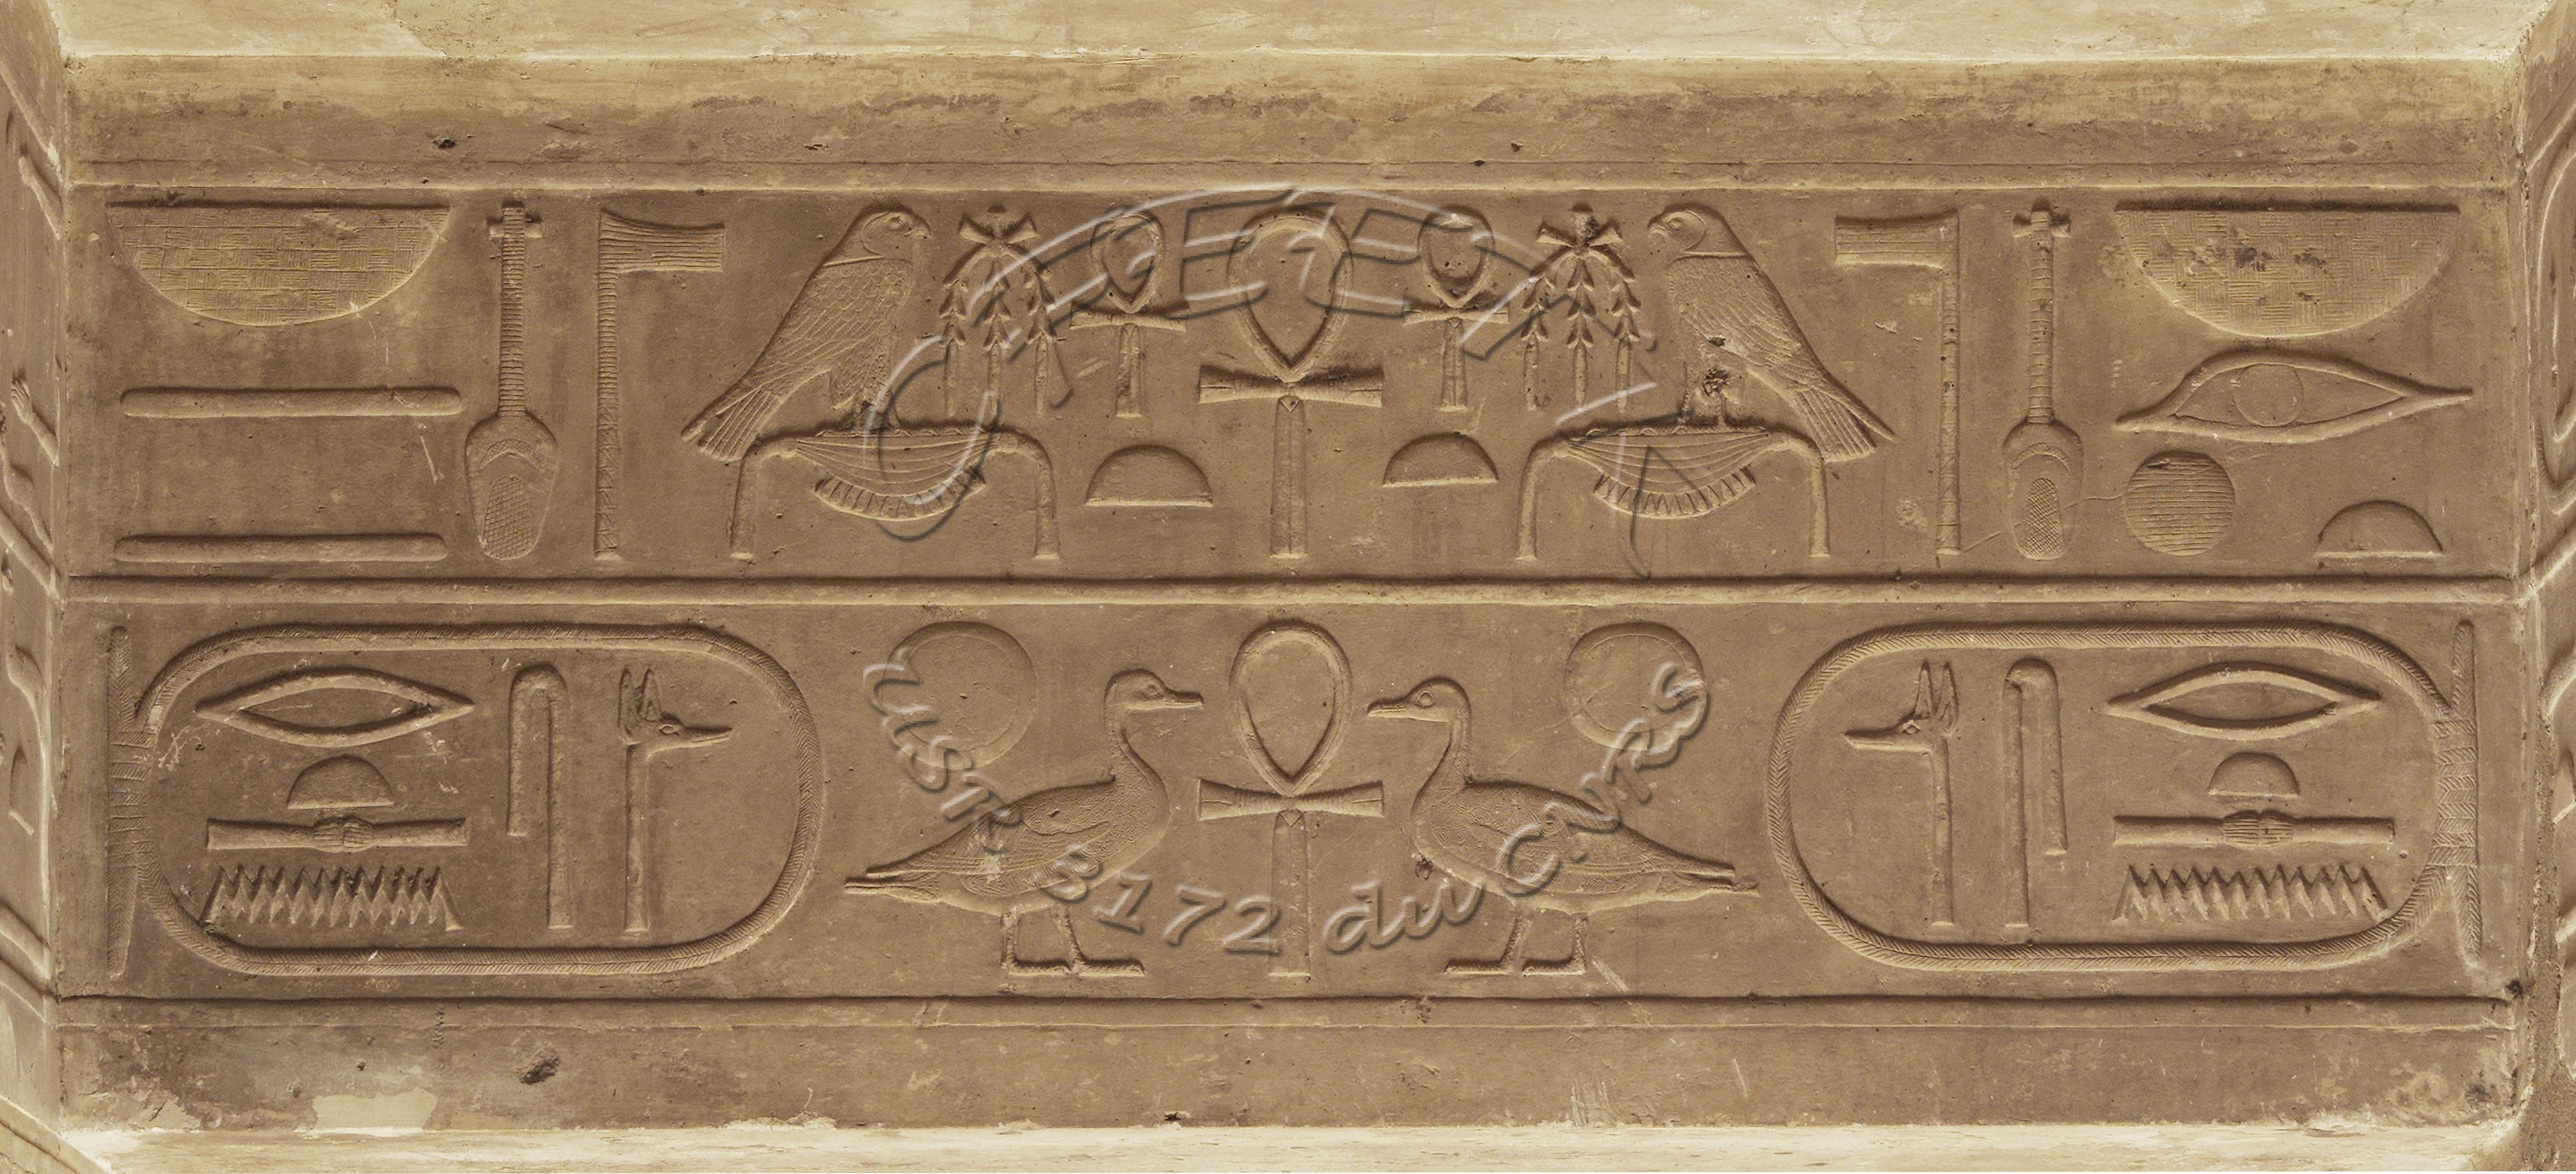D21: (174, 652, 503, 760), (2081, 644, 2408, 752)
D4: (2093, 340, 2489, 471)
F35: (457, 190, 572, 575), (1990, 190, 2104, 575)
N35: (171, 859, 490, 965), (2098, 855, 2417, 962)
V30: (2081, 179, 2487, 348), (71, 179, 476, 348)
